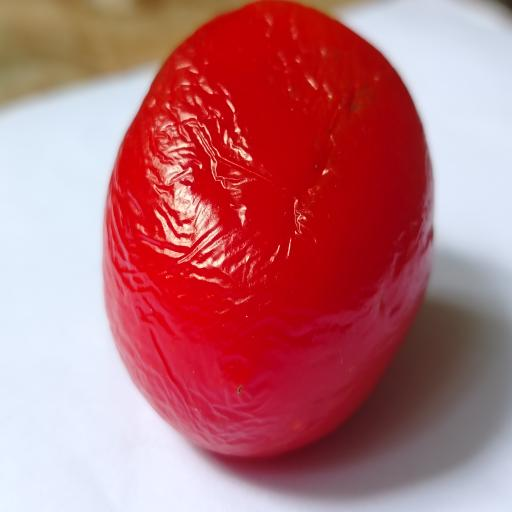spoiled: (104, 0, 433, 455)
